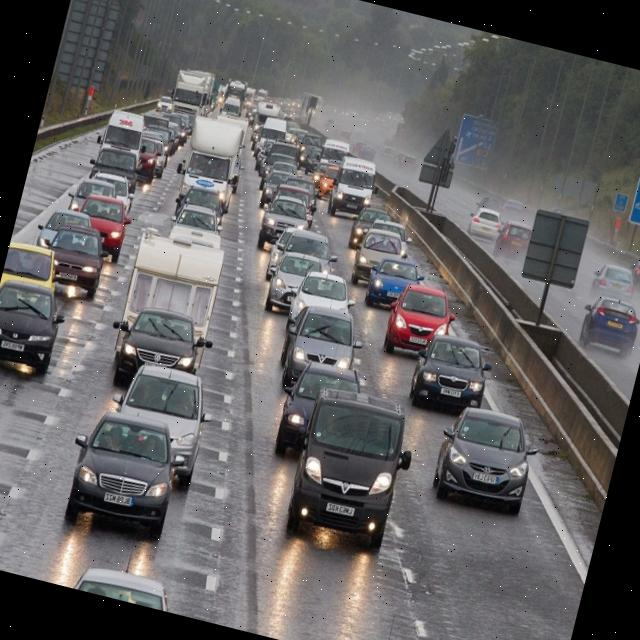bus: (178, 116, 245, 205), (90, 103, 146, 171), (328, 155, 380, 227), (168, 69, 210, 126), (251, 97, 280, 138)
car: (280, 383, 419, 559), (60, 403, 188, 540), (101, 354, 217, 486), (428, 399, 542, 516), (118, 228, 226, 342), (272, 298, 368, 407), (271, 356, 362, 468), (106, 299, 206, 400), (403, 326, 499, 421), (0, 264, 73, 378), (379, 278, 462, 366), (34, 216, 112, 300), (282, 264, 358, 336), (362, 252, 428, 317), (576, 293, 640, 359), (254, 190, 312, 256), (266, 252, 321, 316), (5, 238, 62, 294), (588, 260, 639, 306), (91, 143, 144, 187), (87, 194, 132, 240), (349, 225, 384, 283), (178, 181, 232, 217), (70, 174, 116, 216), (494, 218, 534, 264), (286, 228, 338, 262), (34, 205, 74, 248), (266, 223, 292, 285), (173, 204, 224, 234), (348, 202, 376, 248), (372, 214, 418, 242), (468, 204, 503, 240), (134, 136, 160, 178), (317, 137, 351, 169), (284, 174, 322, 202), (216, 94, 246, 121), (315, 165, 338, 200), (270, 140, 300, 166), (252, 138, 272, 173), (260, 169, 283, 199), (394, 152, 420, 177), (153, 143, 170, 174), (502, 197, 528, 217), (304, 146, 323, 173), (476, 194, 502, 212), (266, 162, 296, 177), (154, 93, 174, 115), (172, 120, 190, 144), (357, 144, 378, 162), (378, 142, 398, 160), (298, 144, 312, 169)
